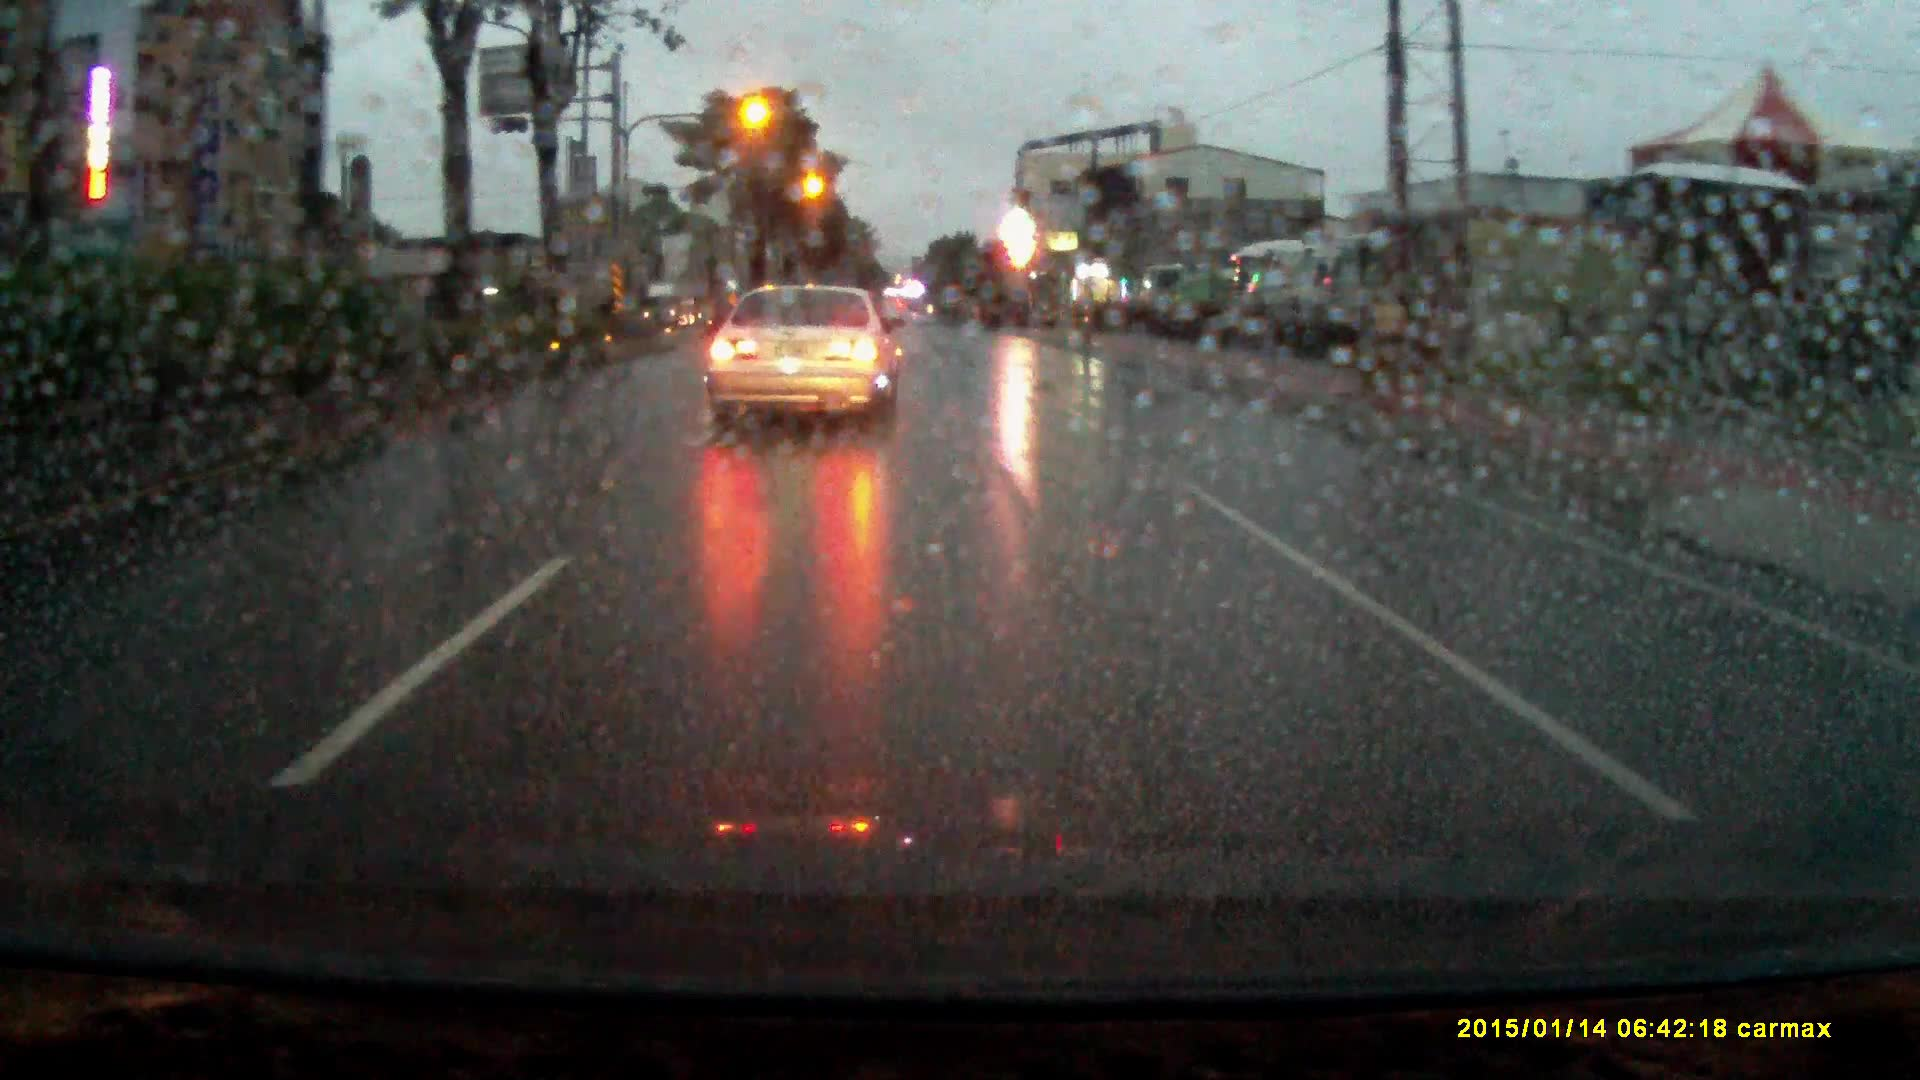vehicle: (705, 277, 909, 444), (1325, 232, 1424, 347), (1237, 243, 1331, 345), (1162, 265, 1232, 323), (1138, 265, 1195, 334), (647, 284, 696, 331)
